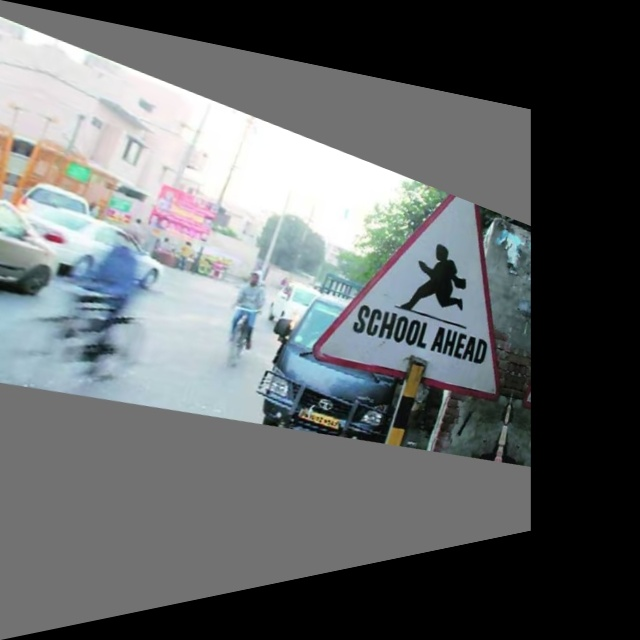School_Ahead: (336, 181, 521, 391)
